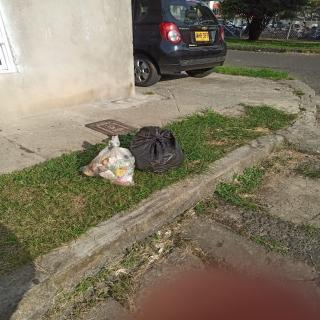Garbage: (77, 138, 137, 188), (129, 126, 187, 174)
